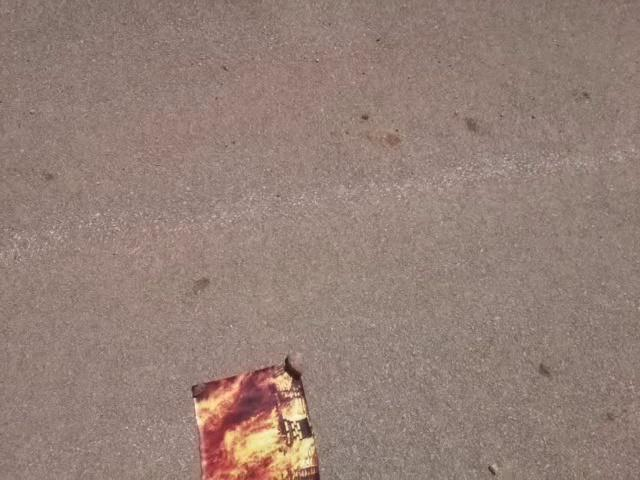fire-poster: (188, 355, 323, 479)
